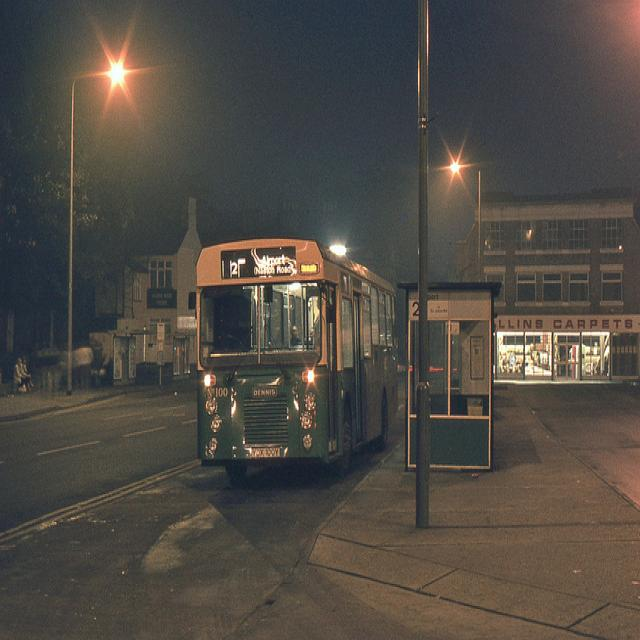Bus: (183, 218, 412, 492)
People: (4, 341, 46, 412)
